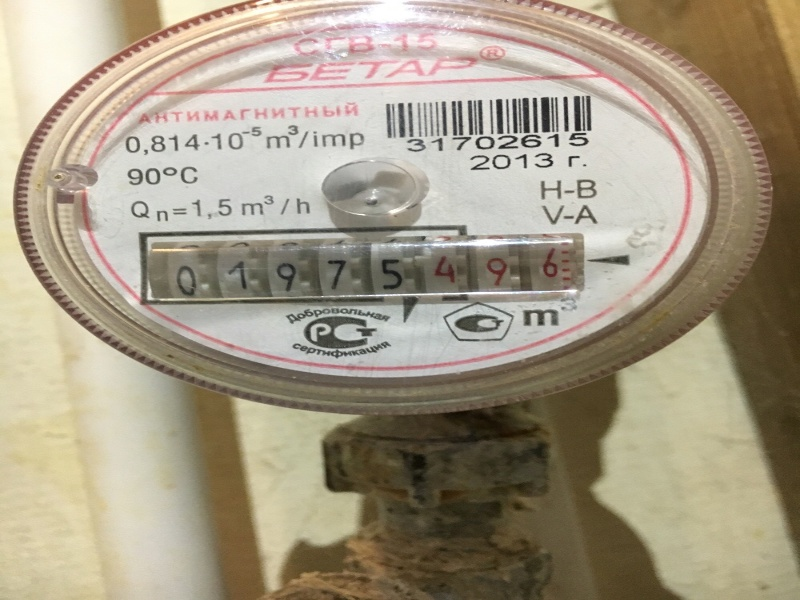meter: (129, 228, 593, 292)
